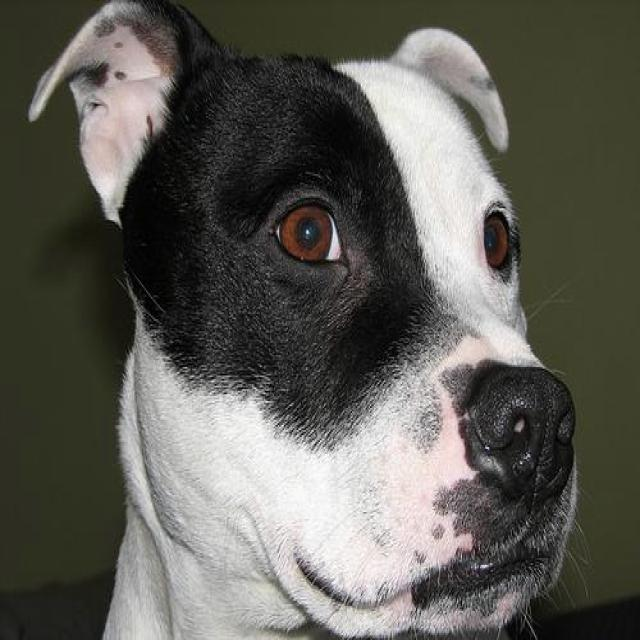staffordshire_bullterrier: (15, 0, 593, 638)
